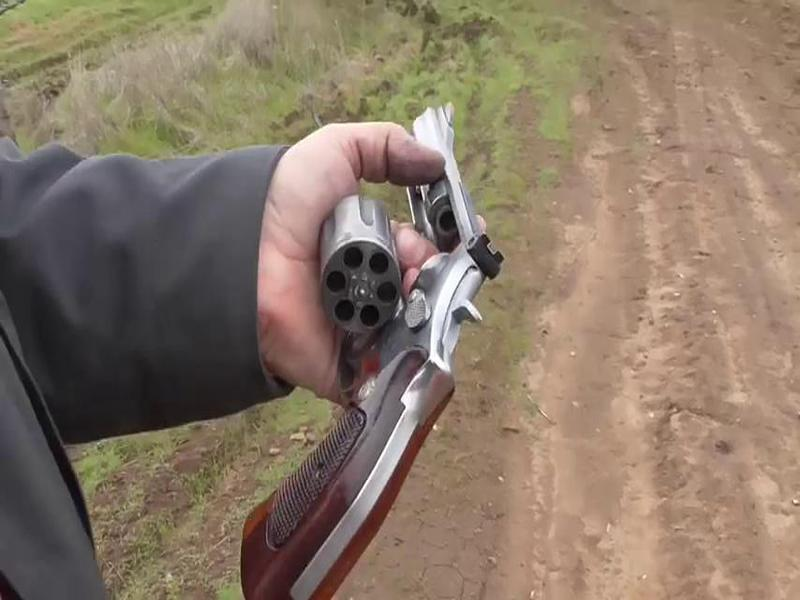Revolver: (245, 64, 492, 600)
